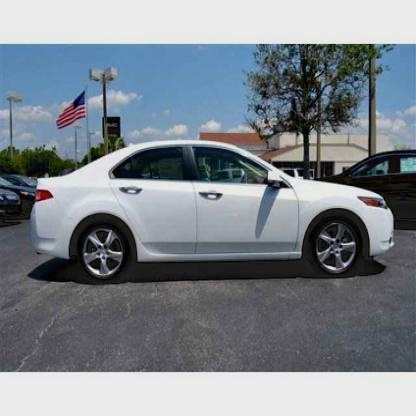Vehicle: (31, 138, 396, 286)
